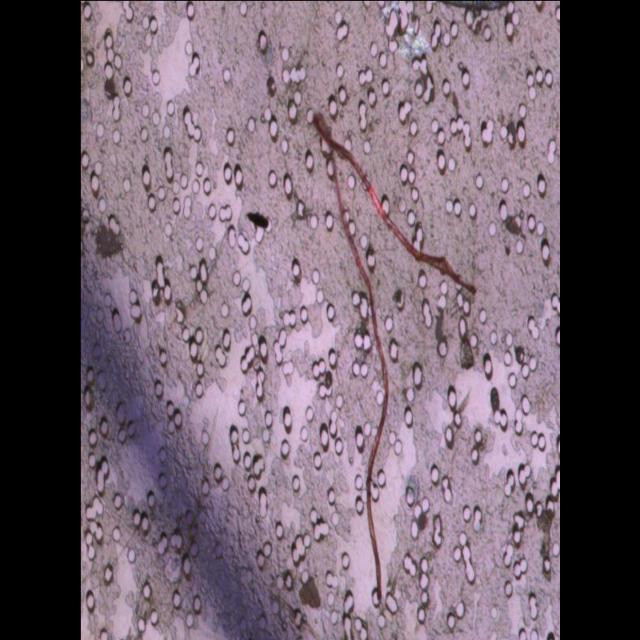Fibre: (308, 107, 482, 616)
